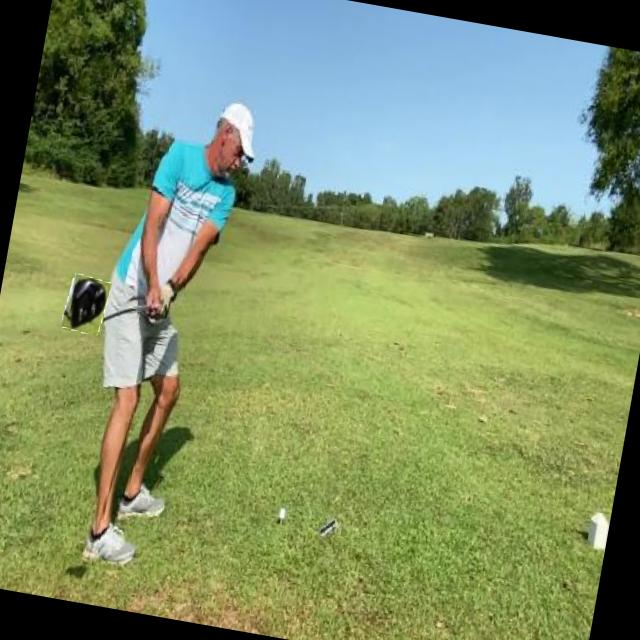club head: (61, 273, 110, 336)
